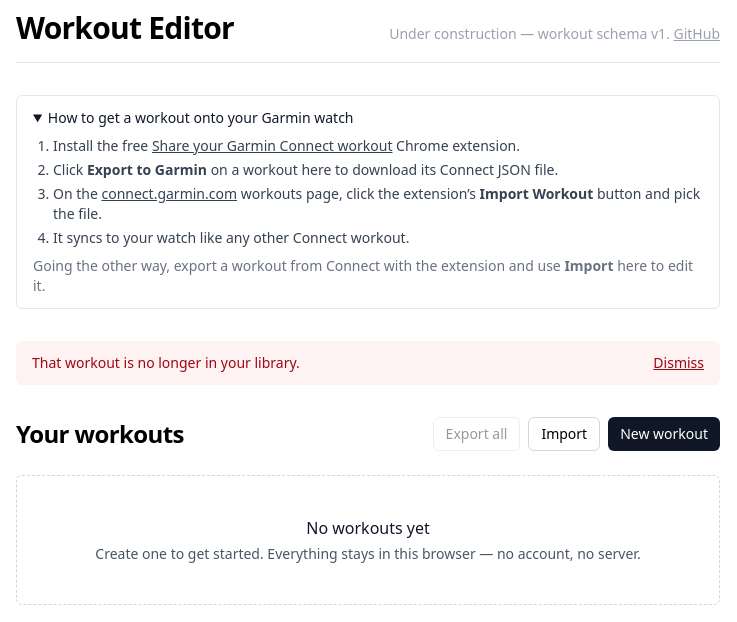
Test: App › shows a store error and dismisses it
Expected: the text "No workouts yet" is shown, [306,517,430,539]
Expected: the message shows "That workout is no longer in your library.", [32,353,300,372]
Click the button "Dismiss" at (679, 363), box [653,353,704,373]
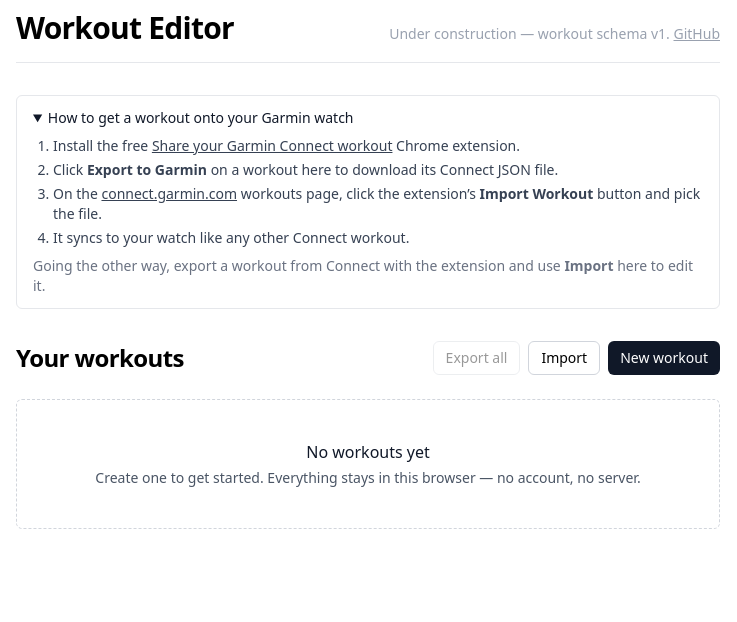
Expected: the message "That workout is no longer in your library. Dismiss" is gone
